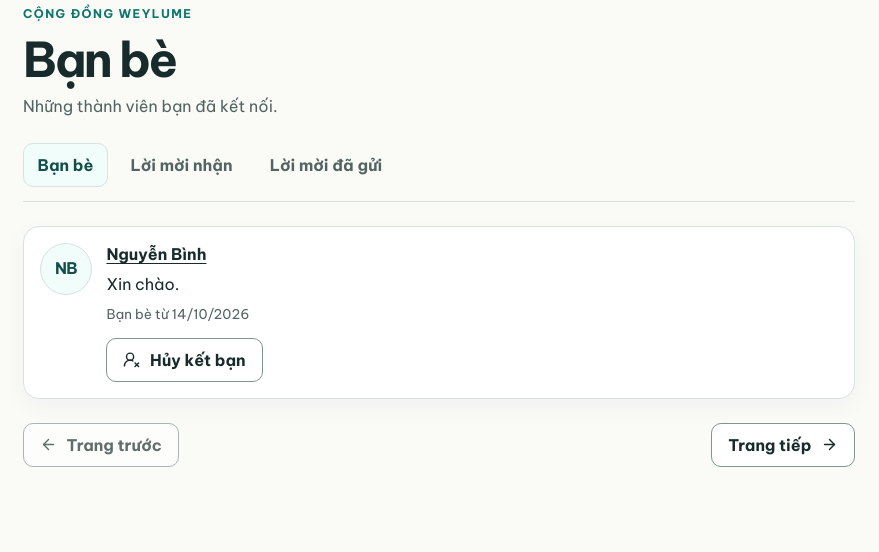
Scenario: friendship list pages › keeps previous-page navigation when removing the last friend from a later page
Click the button "Trang tiếp".
click(783, 445)  # box [711,423,855,467]
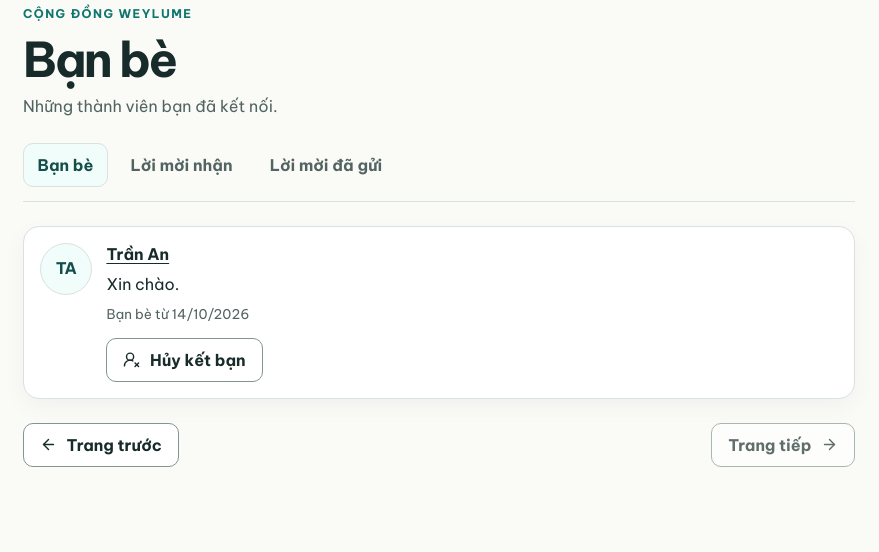
Now the link "Trần An" is shown, box [106,244,169,264]
Click the button "Hủy kết bạn".
click(184, 360)  # box [106,338,263,382]
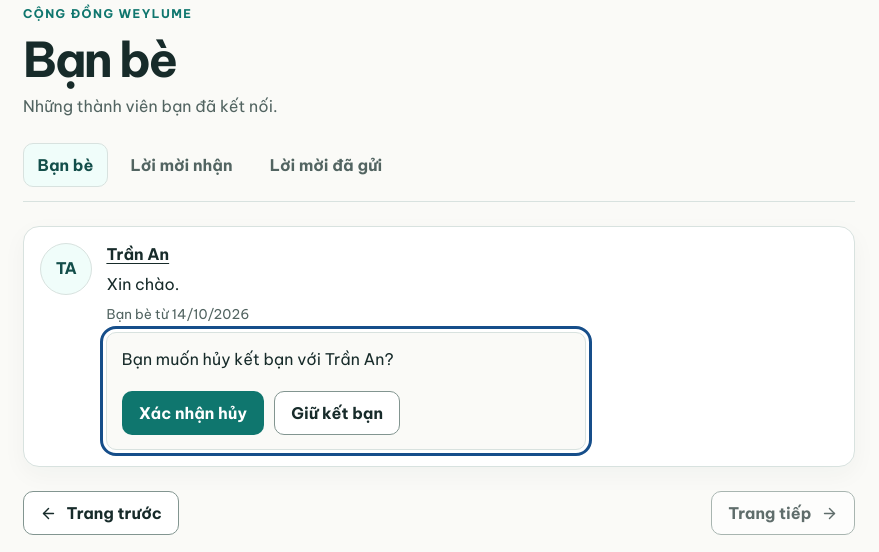
Click the button "Xác nhận hủy".
click(193, 413)  # box [122,391,264,435]
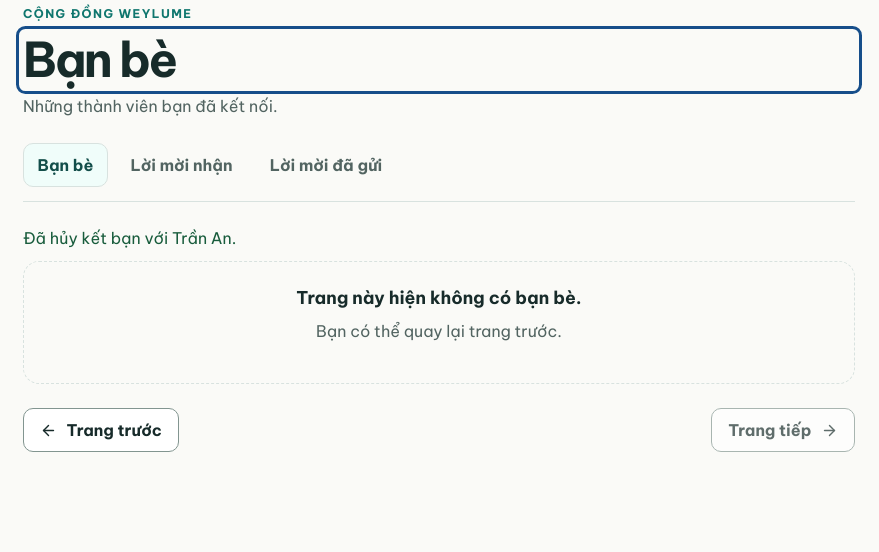
Now the button "Trang trước" is enabled
Now the heading "Trang này hiện không có bạn bè." is shown, box [296,286,582,310]
Click the button "Trang trước".
click(101, 430)  # box [23,408,179,452]
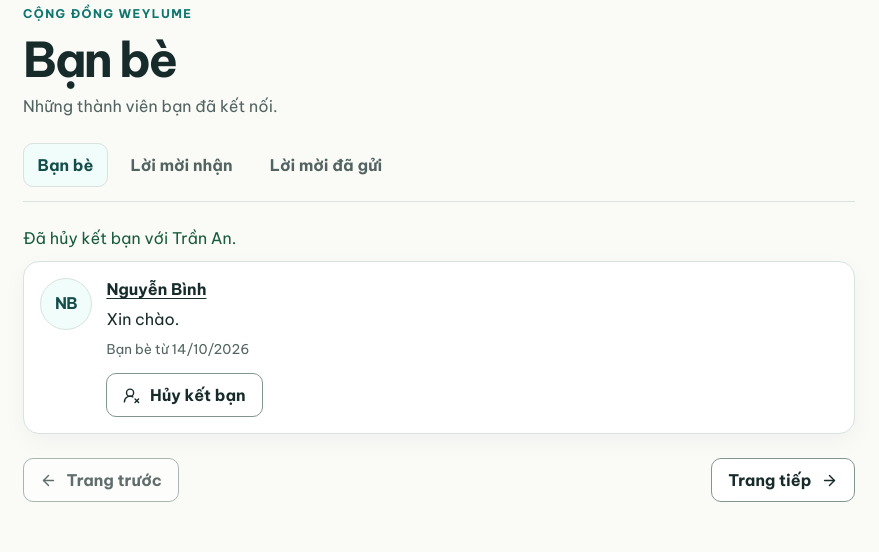
Now the link "Nguyễn Bình" is shown, box [106,279,206,299]
